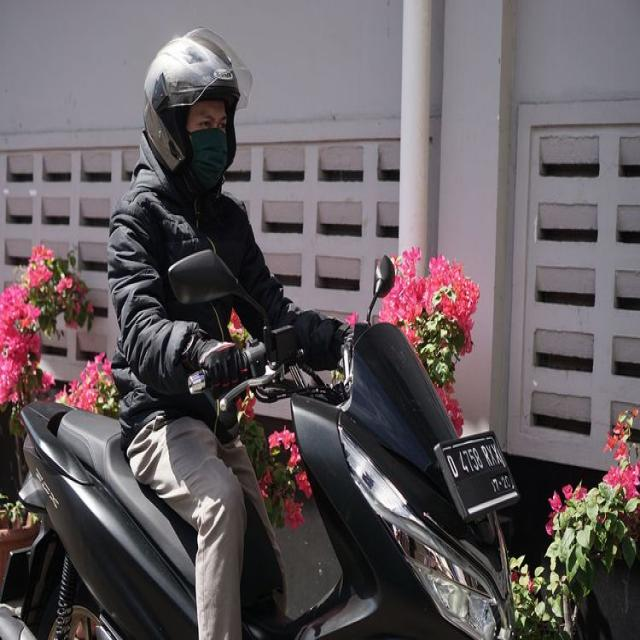Helm: (136, 22, 257, 193)
